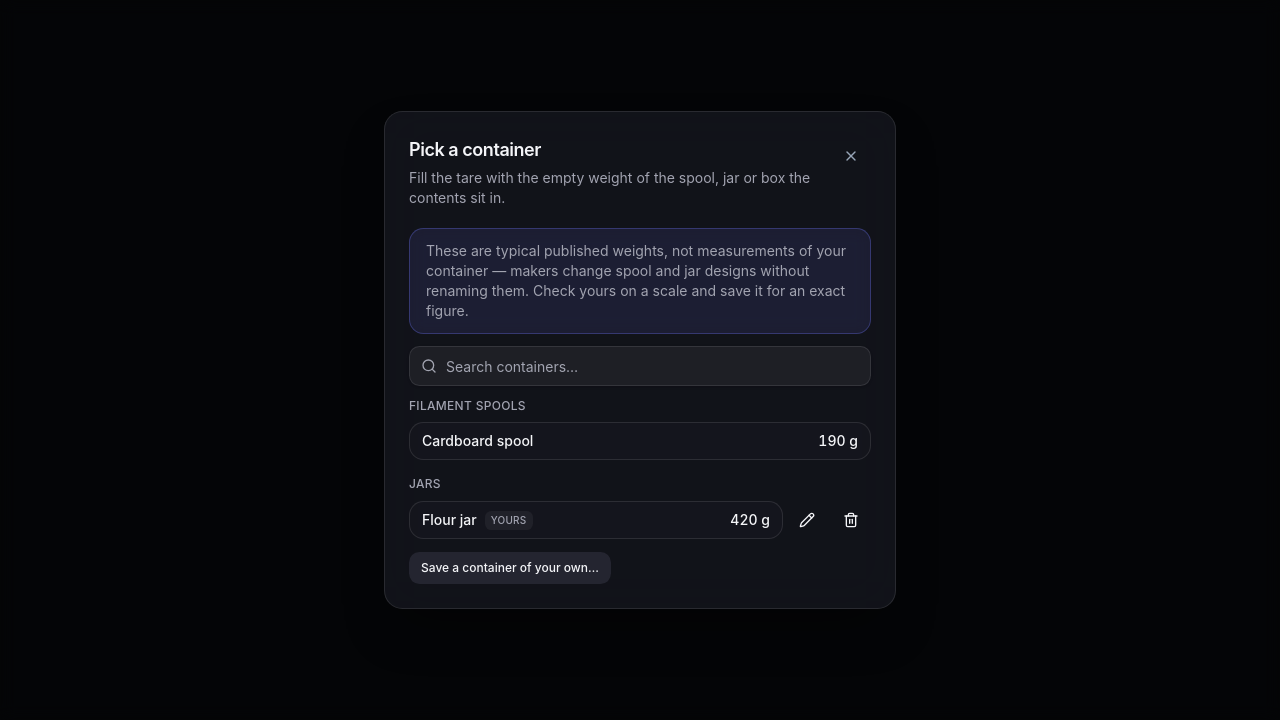
Test: TarePresetPicker — editing a saved container › closes the form but leaves the picker open, since an edit is not a choice
The width and height of the screenshot is (1280, 720).
Click the button named "Edit Flour jar".
click(807, 520)  # box [787,500,827,540]
(page scrolled)
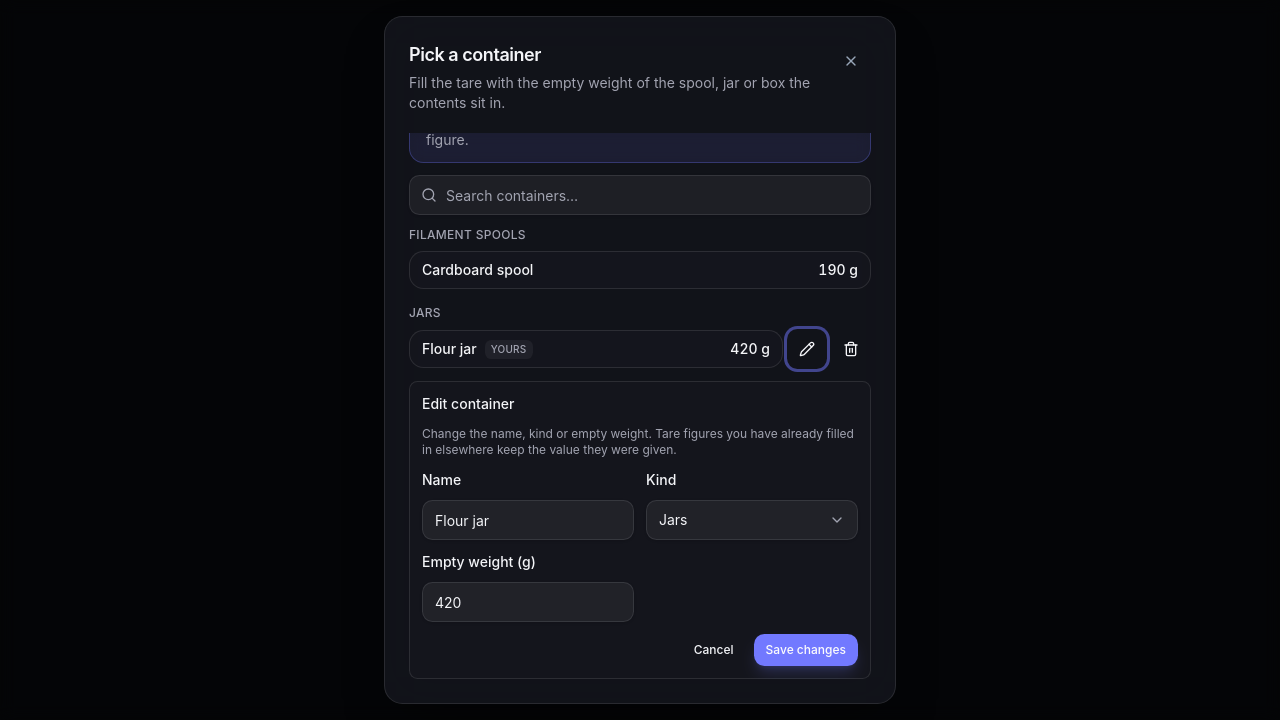
Click the button with test id "tare-preset-save".
click(806, 650)  # box [754,634,858,666]
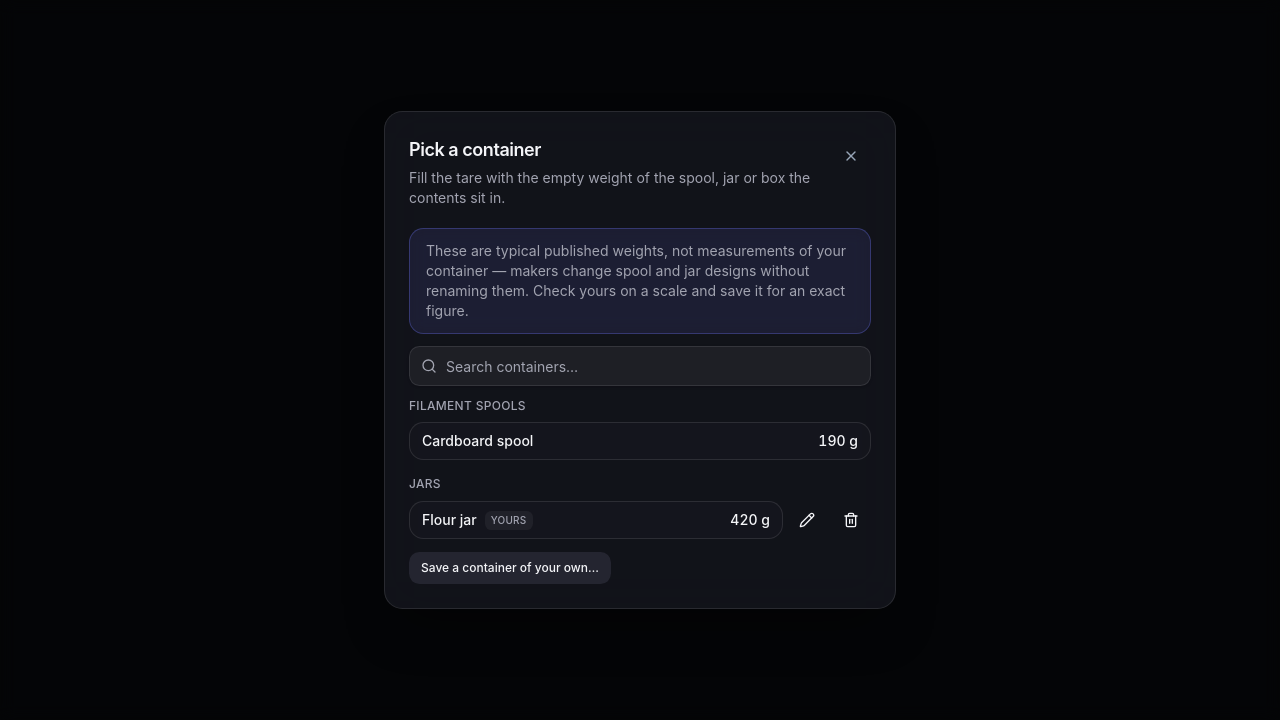
Check: the heading "Edit container" is gone
